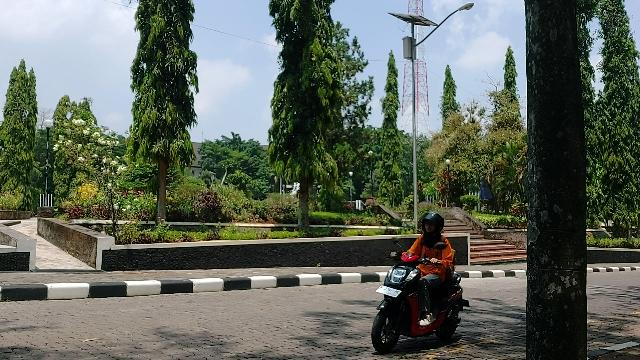helm: (420, 211, 447, 237)
motor: (372, 237, 472, 357)
